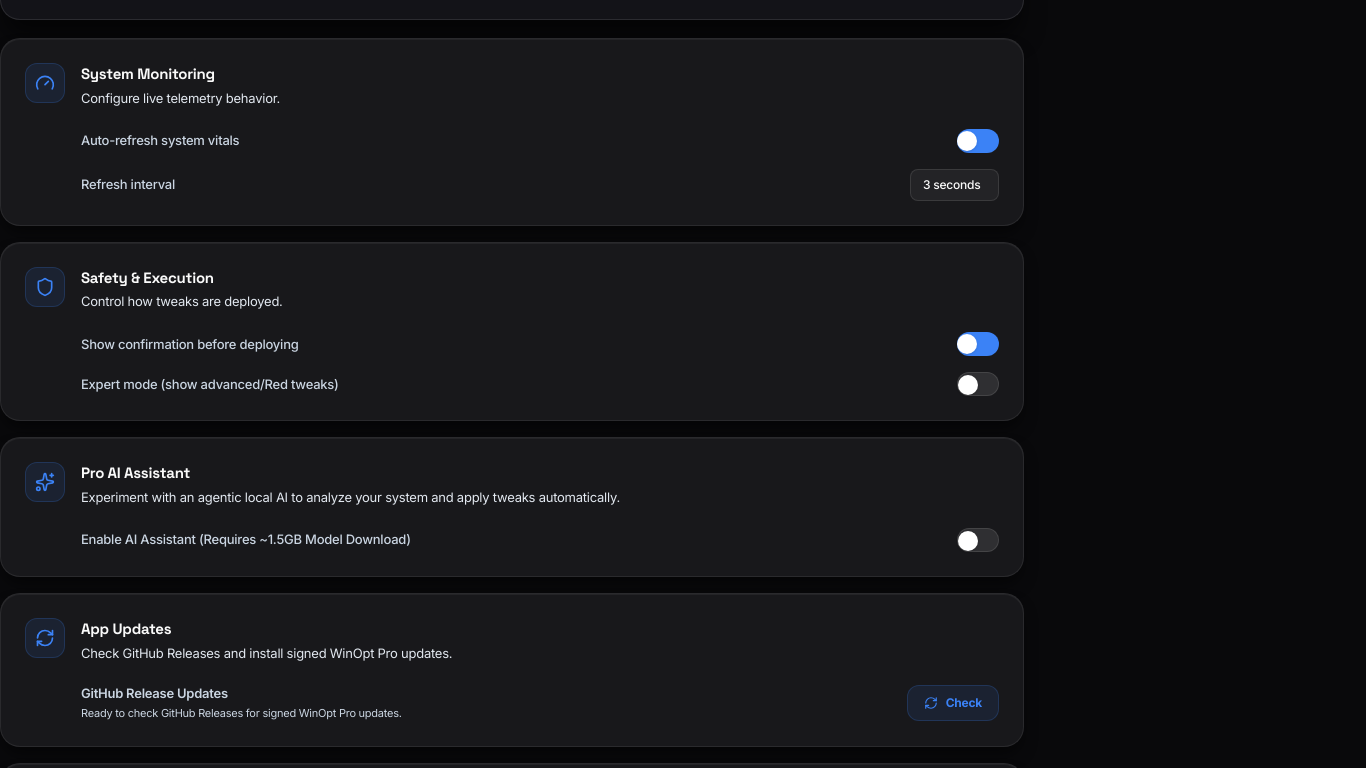
Scenario: SettingsPage › toggling expert mode shows confirmation modal
(page scrolled)
Click the button named "expert mode" in the row of "Expert mode (show advanced/Red tweaks)" at (978, 384), box [957,372,999,396]
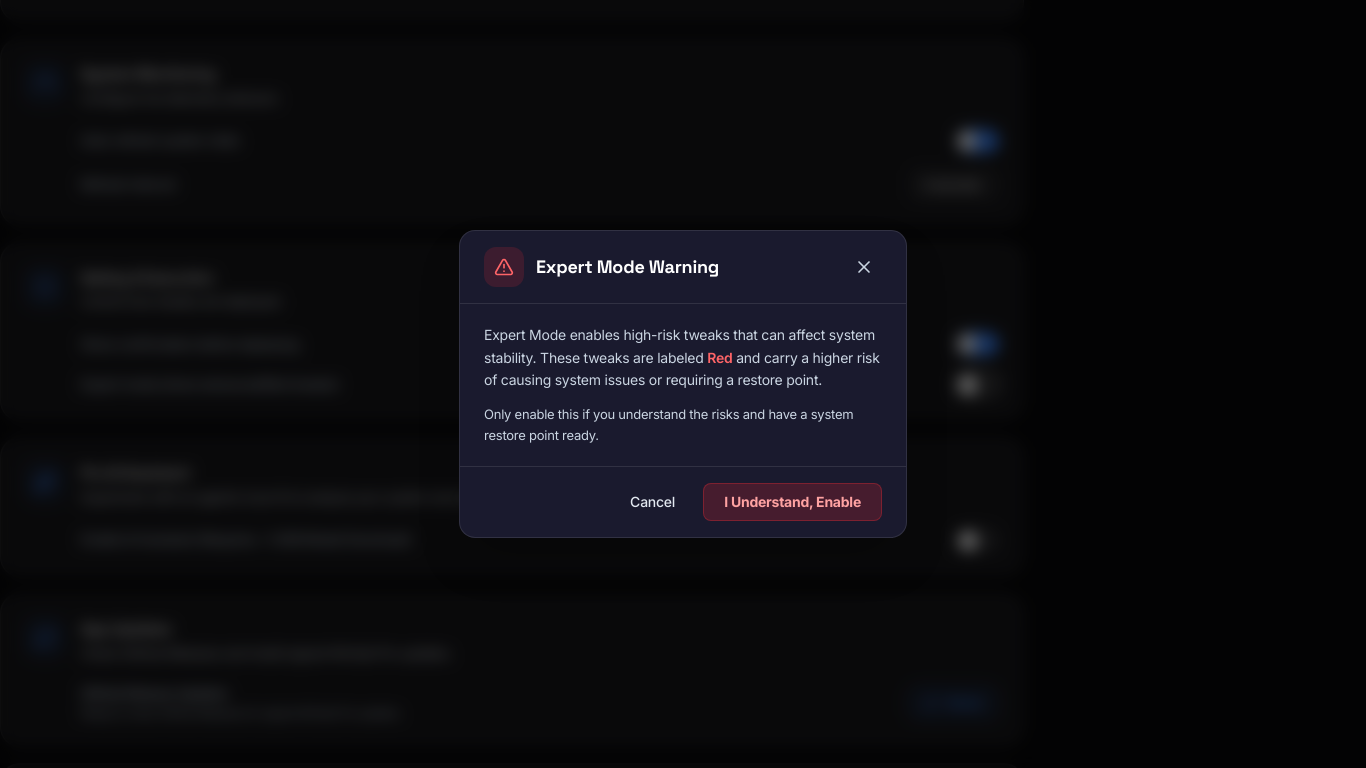
Check: the heading "Expert Mode Warning" is shown, box [536,253,719,281]
